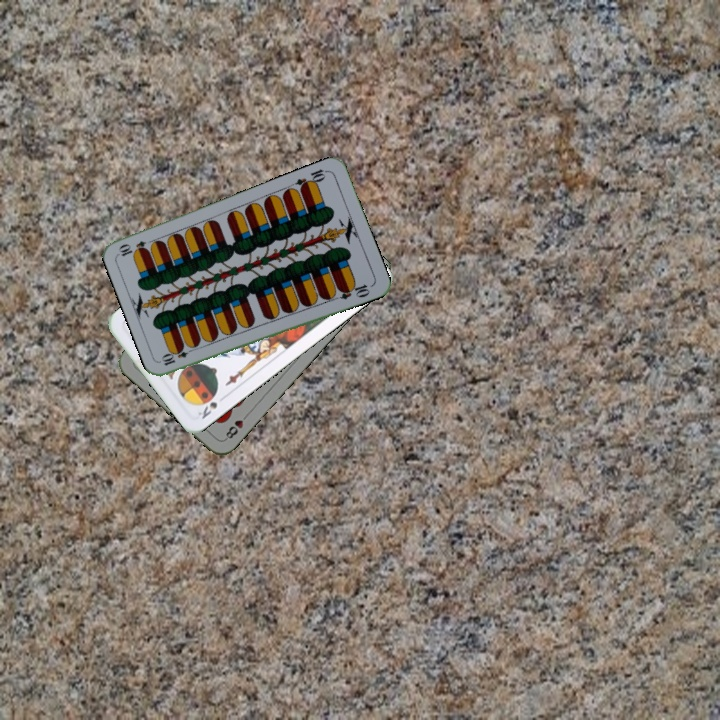E10: (291, 165, 331, 193), (158, 343, 197, 368)
H8: (220, 409, 251, 443)
SK: (194, 391, 229, 422)
